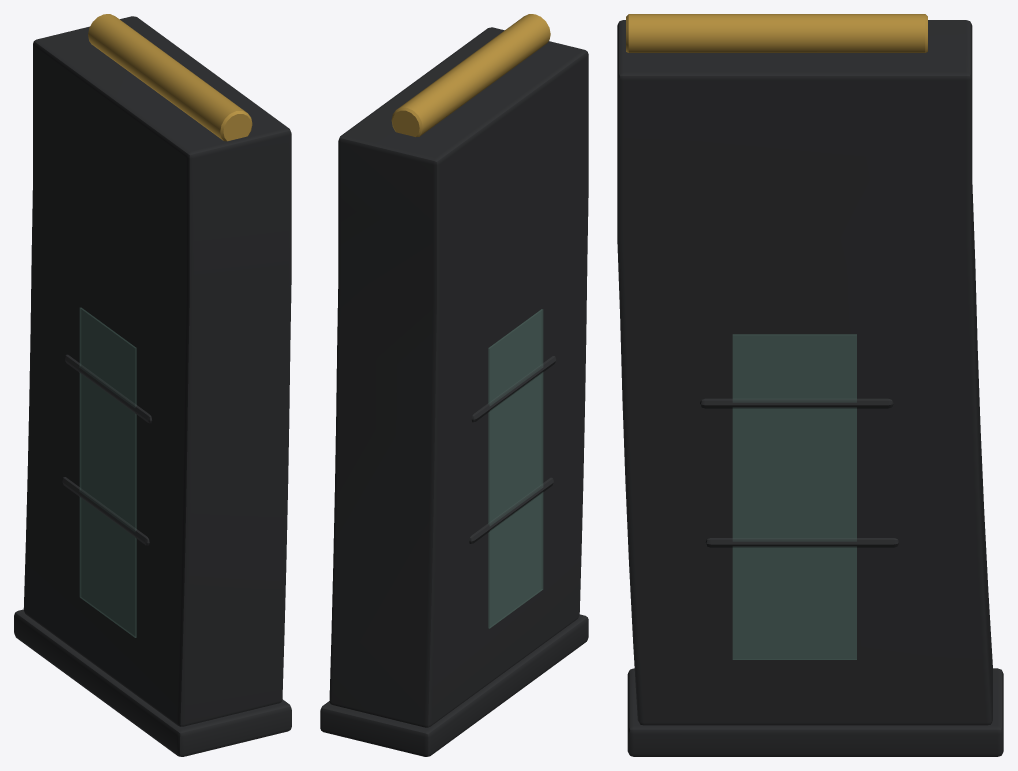
The model's file is mod_falchion_standard_mag.glb.
3 renders of one model, left to right at view 1: azimuth 30°, elevation 25°; view 2: azimuth 150°, elevation 25°; view 3: azimuth 270°, elevation 25°, orthographic. The views are drawn at different scales.
Visible parts, largest first — view 1: Magazine, MagazineWindow, MagazineRound; view 2: Magazine, MagazineWindow, MagazineRound; view 3: Magazine, MagazineWindow, MagazineRound.
Boxes of the visible parts, x1=… form: Magazine: x1=14, y1=16, x2=291, y2=756; MagazineWindow: x1=79, y1=307, x2=136, y2=637; MagazineRound: x1=88, y1=14, x2=252, y2=141; Magazine: x1=320, y1=27, x2=588, y2=756; MagazineWindow: x1=488, y1=309, x2=543, y2=628; MagazineRound: x1=391, y1=14, x2=550, y2=136; Magazine: x1=617, y1=20, x2=1003, y2=756; MagazineWindow: x1=732, y1=334, x2=856, y2=659; MagazineRound: x1=626, y1=14, x2=927, y2=52.
Bounding box in the file's own units: 0.0284 × 0.1504 × 0.074.
